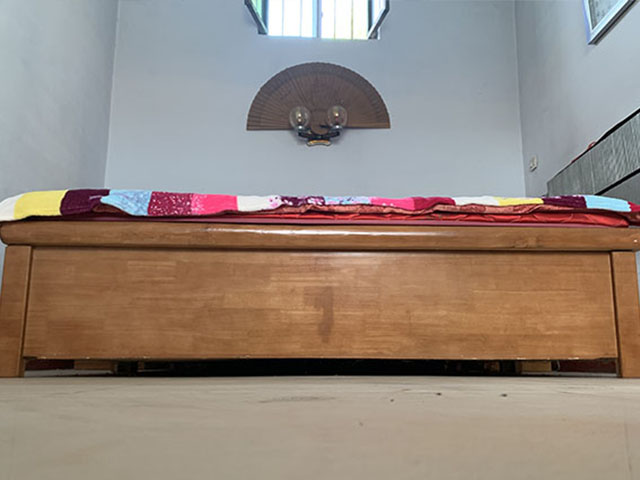bed: (1, 176, 638, 381)
